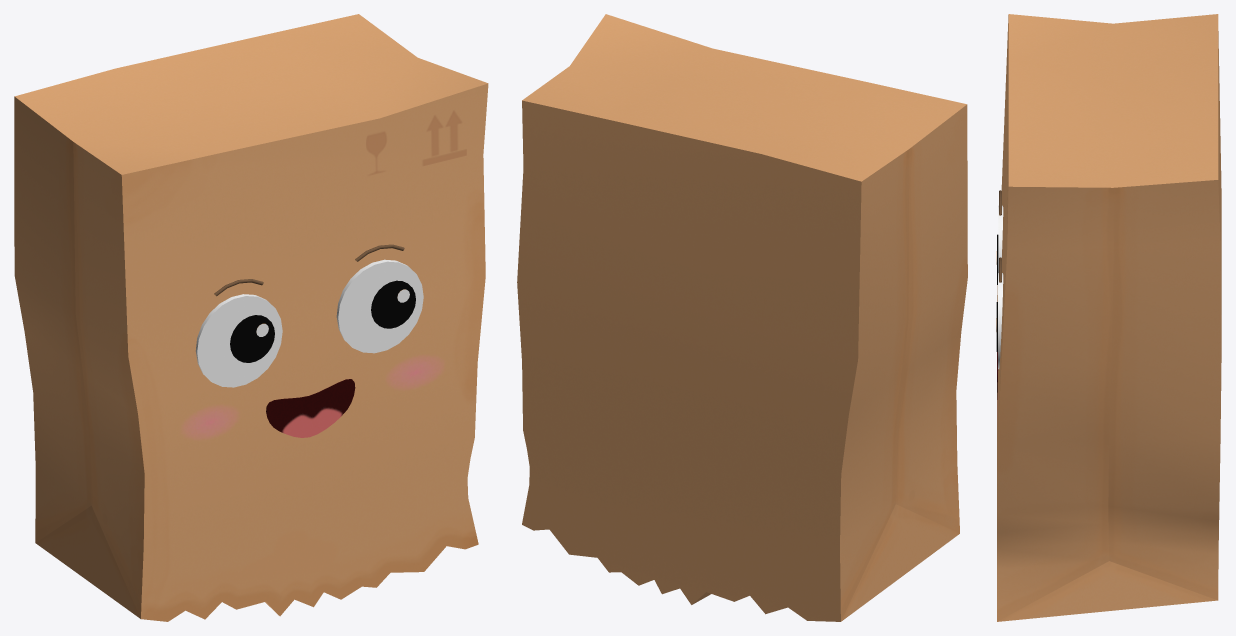
Rendered from paketik_without_eyes.fbx.
3 views of the same model, side by side, from view 1: azimuth 30°, elevation 25°; view 2: azimuth 150°, elevation 25°; view 3: azimuth 270°, elevation 25° (orthographic). The views are drawn at different scales.
Parts seen in each view (by area): view 1: paketik, eyes; view 2: paketik; view 3: paketik.
Boxes of the visible parts, x1,y1,x2,y2 form: paketik: [14, 14, 488, 621]; eyes: [230, 280, 415, 362]; paketik: [517, 14, 967, 621]; paketik: [997, 14, 1221, 621].
Size of the model in its own units: 2.6 by 3.24 by 1.42.
